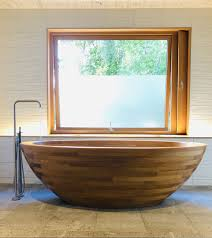bathub: (15, 126, 209, 219)
